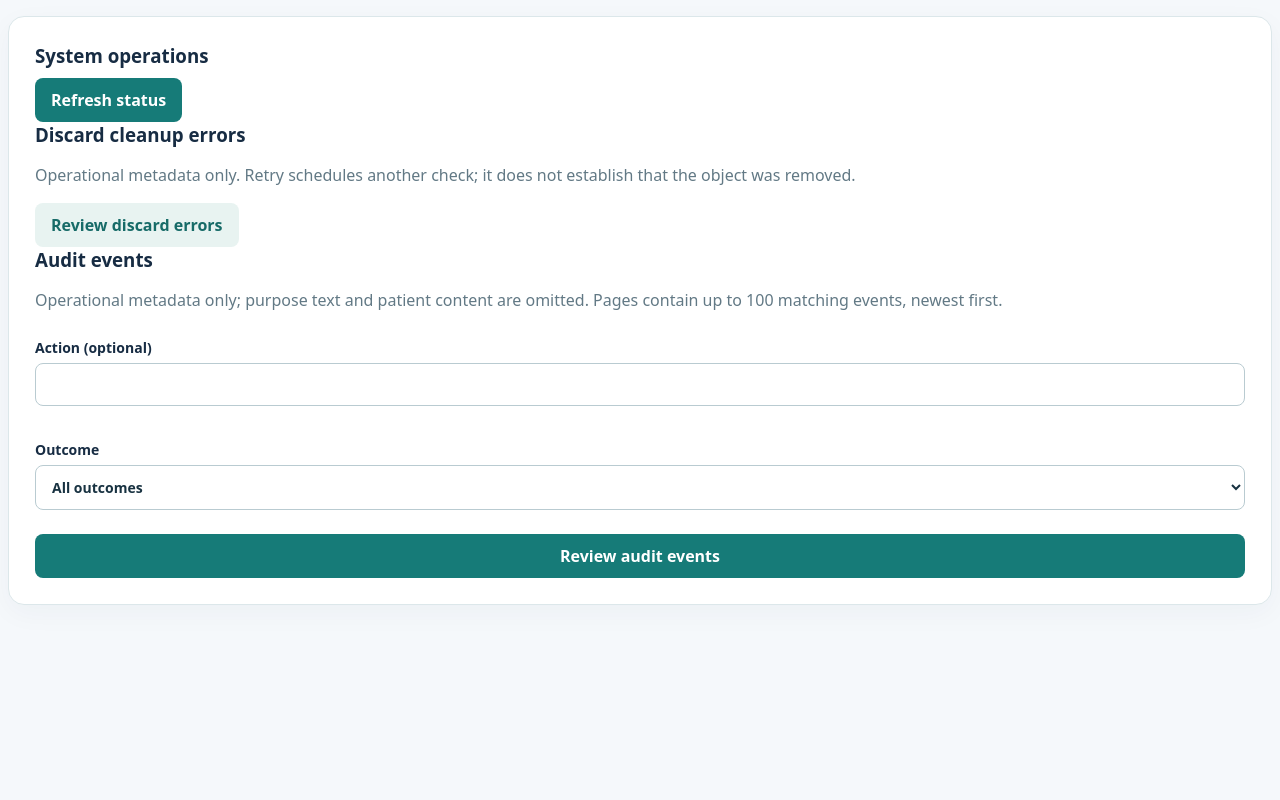
Test: shows aggregate knowledge job states and possible stale work
The width and height of the screenshot is (1280, 800).
Click the button "Refresh status".
click(109, 100)  # box [35, 78, 182, 122]
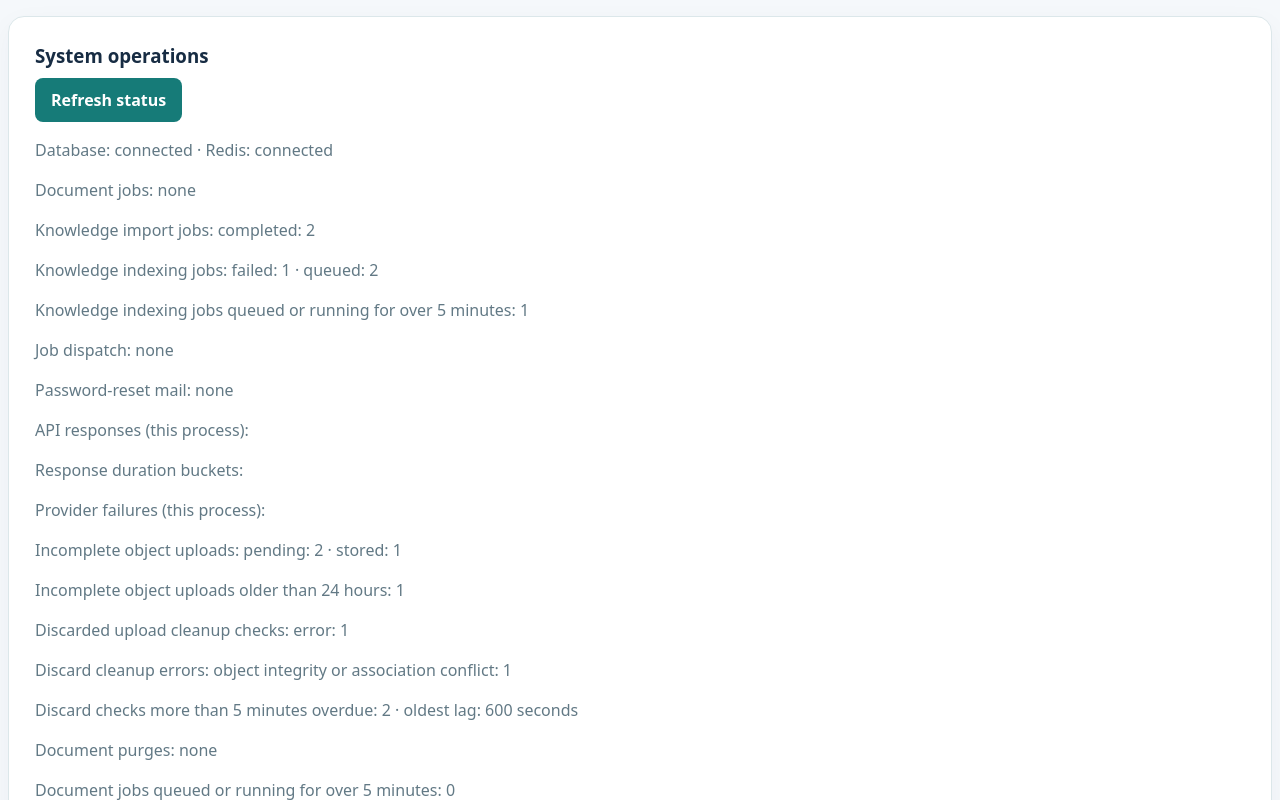
expect the text "Incomplete object uploads: pending: 2 · stored: 1" is shown: met, box [35, 539, 402, 561]
expect the text "Incomplete object uploads older than 24 hours: 1" is shown: met, box [35, 579, 405, 601]
expect the text "Discarded upload cleanup checks: error: 1" is shown: met, box [35, 619, 349, 641]
